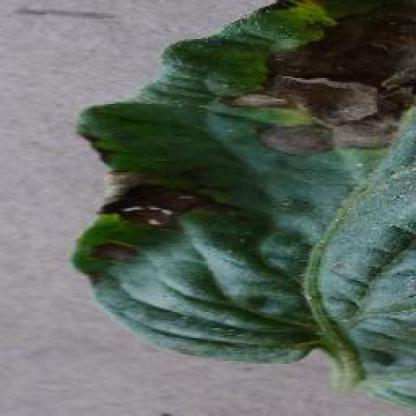Tomato_Blight: (73, 0, 416, 406)
